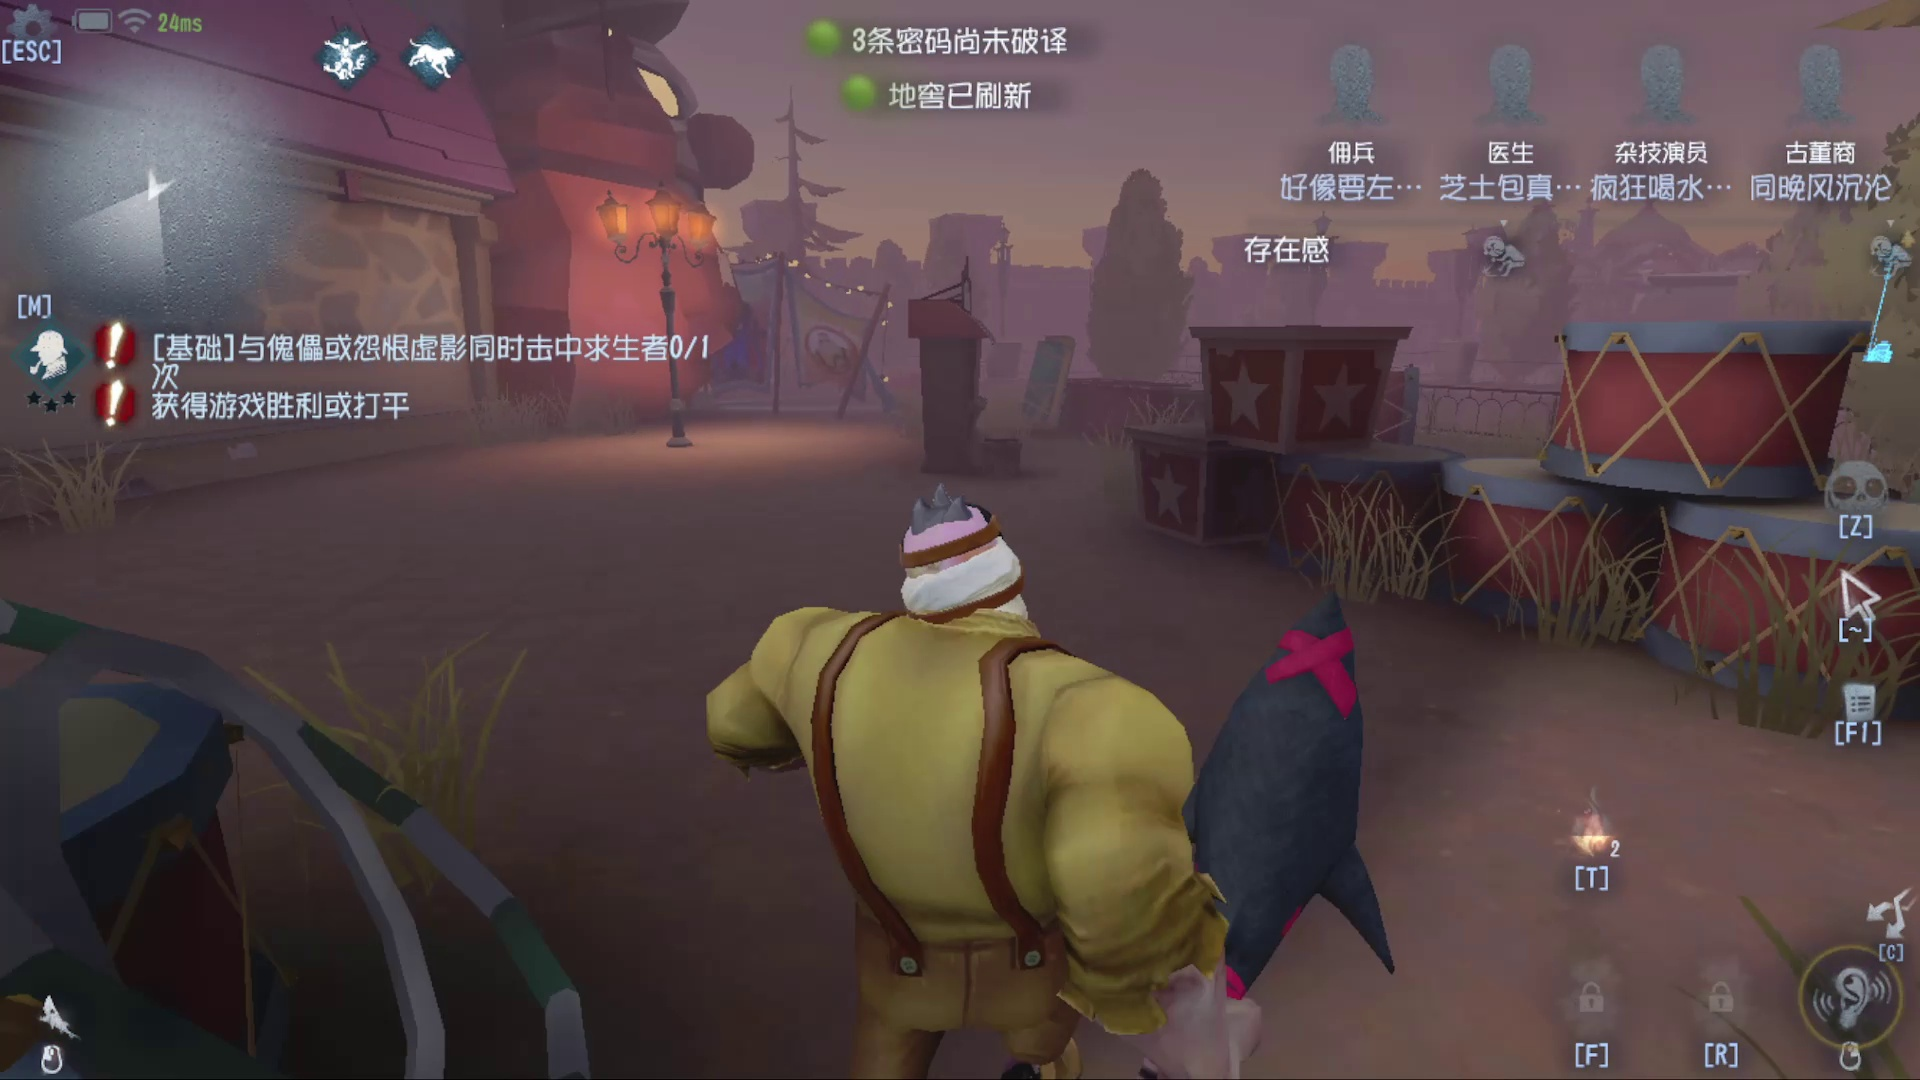密码机: (1838, 240, 1908, 373)
木板: (996, 318, 1084, 452)
